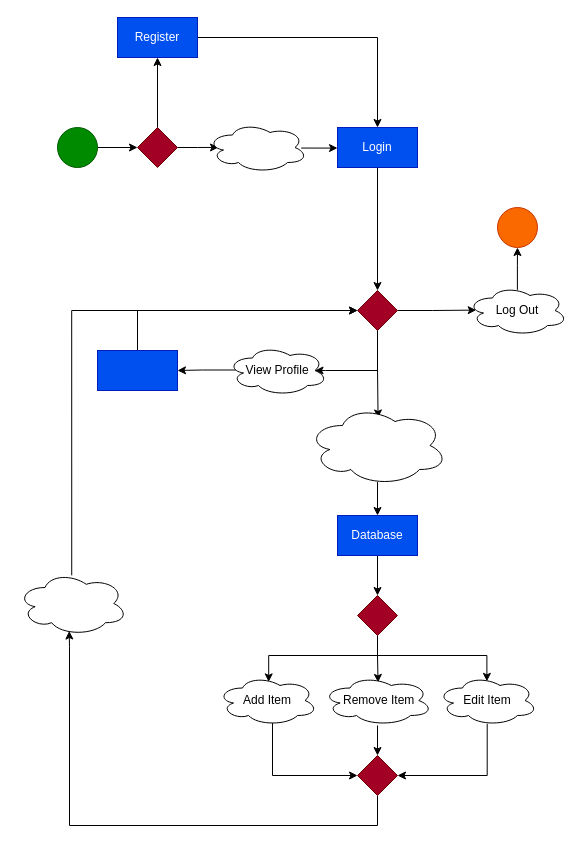
Some shapes in this 585 by 851 pixel diagram are drawn without their labels. The centre of each missing label's shape, as x and y in pixels:
"Existing User" belongs at pixel 257 147.
"Profile Settings" belongs at pixel 137 370.
"Return to Menu" belongs at pixel 72 603.
"View Database of Hardware/Software" belongs at pixel 377 445.
